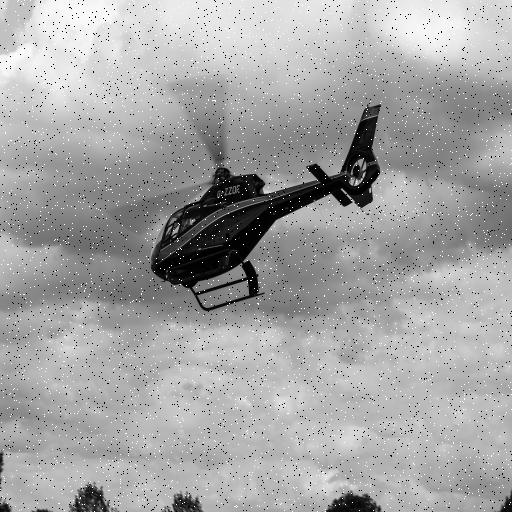helicopter: (114, 76, 389, 313)
